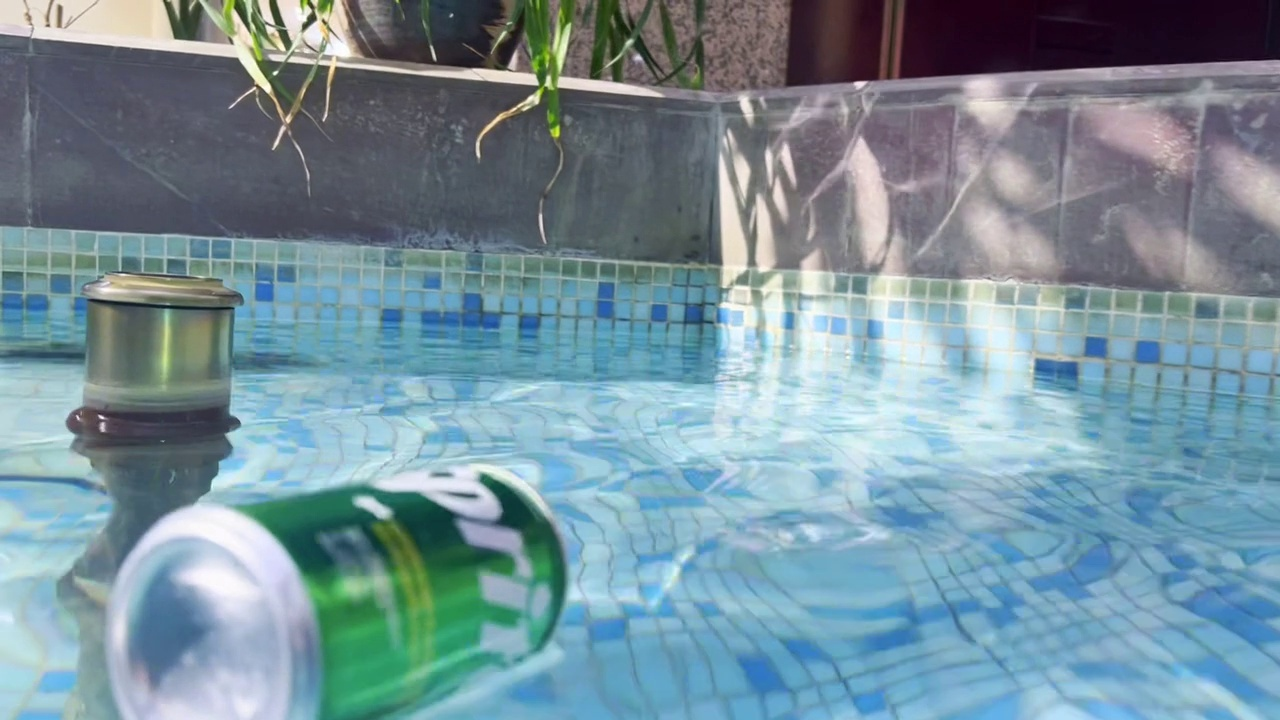debris: (95, 448, 580, 720)
